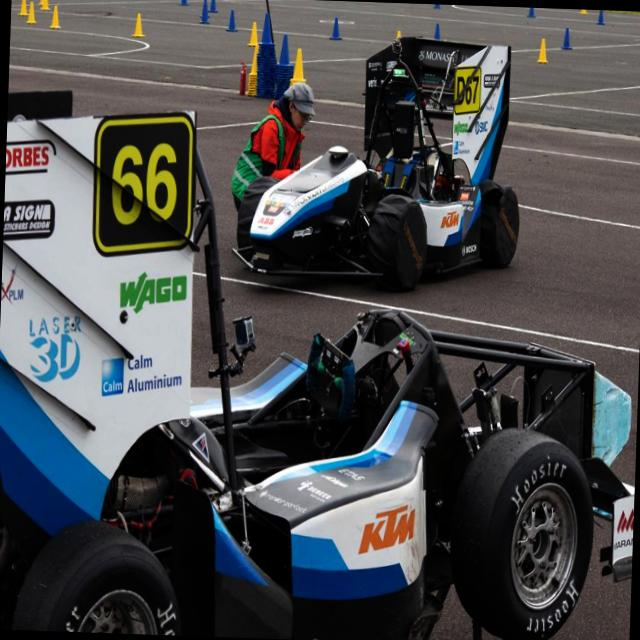blue_cone: (276, 34, 294, 66), (259, 13, 274, 44), (329, 17, 341, 39), (226, 10, 236, 31), (561, 28, 571, 48), (200, 3, 210, 23), (434, 23, 441, 40), (208, 0, 218, 11), (596, 10, 604, 22), (179, 0, 186, 3)
yellow_cone: (290, 47, 306, 80), (249, 44, 260, 74), (247, 22, 260, 46), (536, 38, 548, 62), (132, 13, 144, 36), (50, 6, 61, 28), (26, 1, 37, 22), (18, 0, 28, 15), (40, 0, 50, 9)
